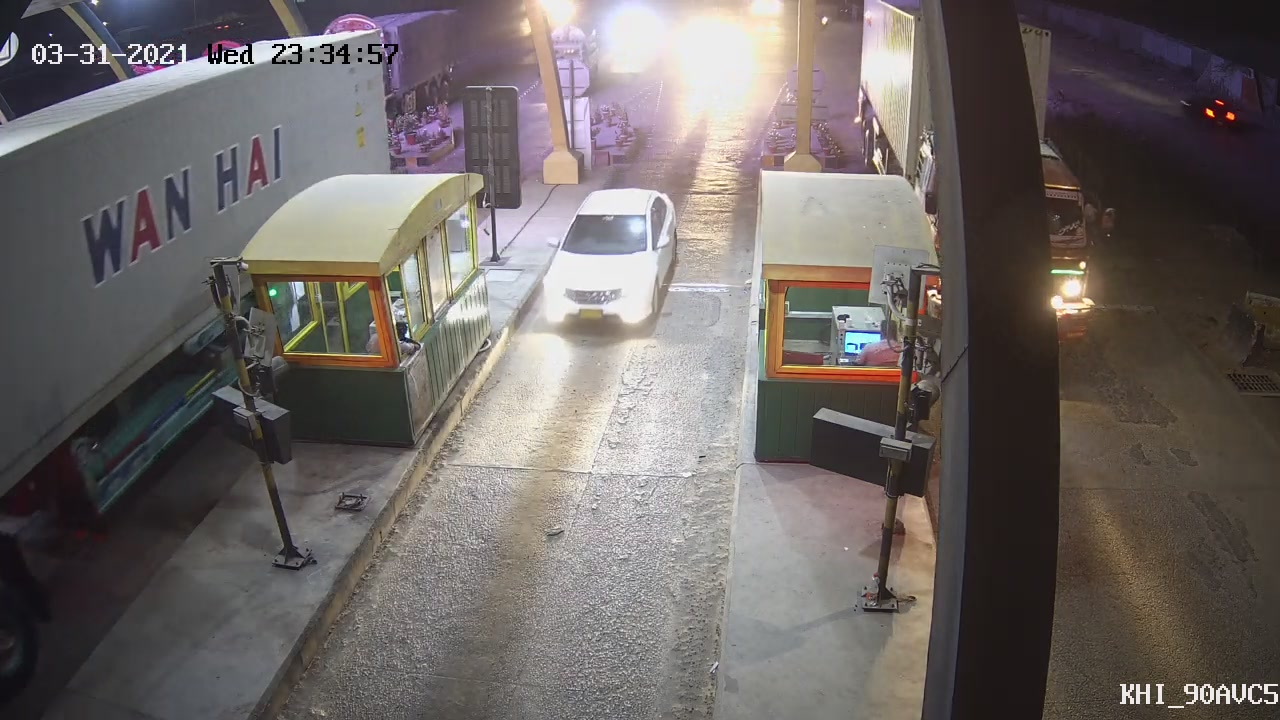F1: (529, 182, 690, 347)
